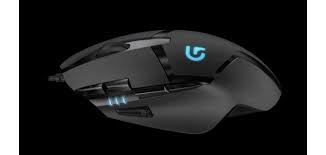mouse: (47, 31, 296, 136)
